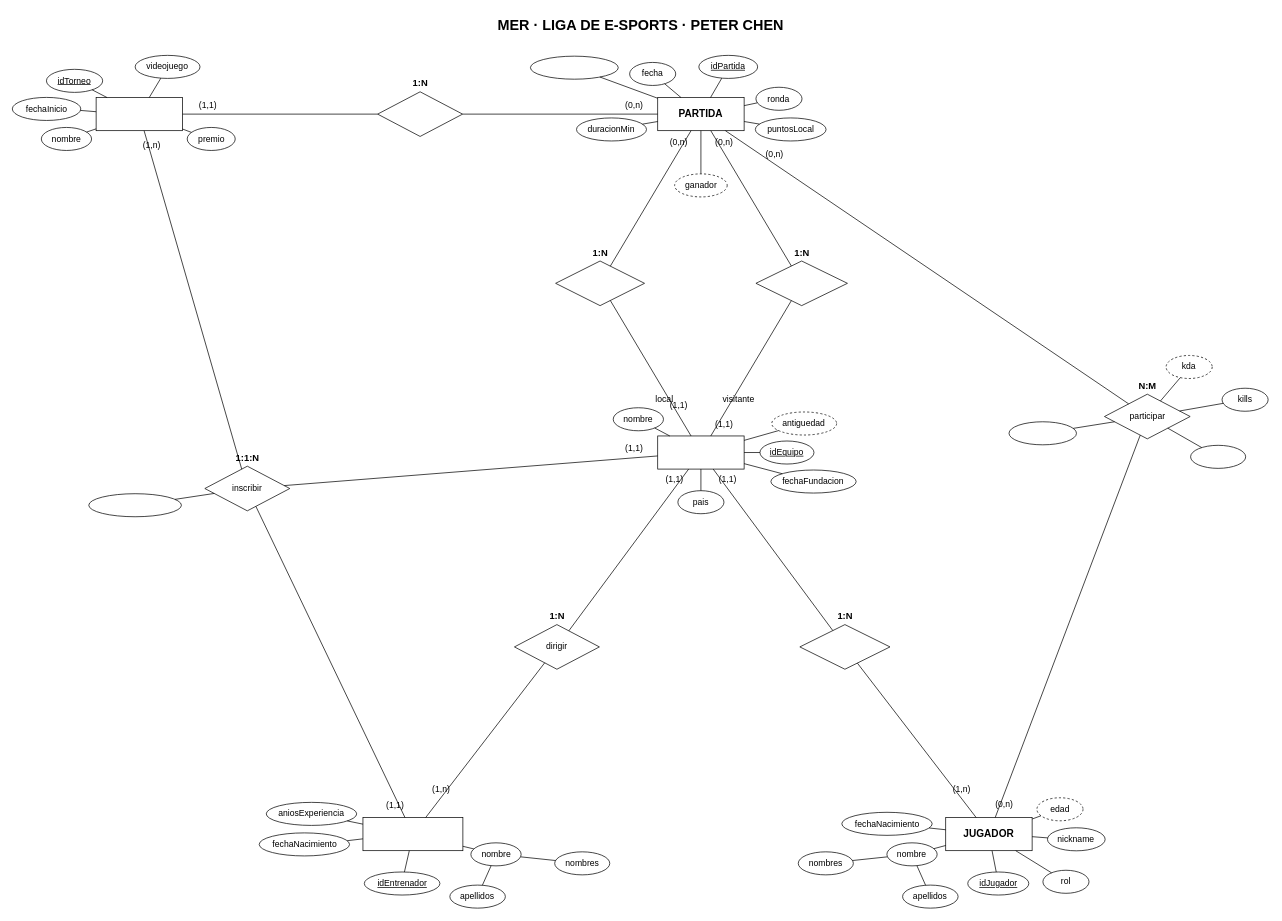
Some shapes in this 1282 by 921 pixel diagram are drawn without their labels. The box of each missing label's shape, as (x1, y1, x2, y2) in pixels:
asistencias: (1008, 421, 1076, 445)
ENTRENADOR: (362, 817, 463, 851)
EQUIPO: (657, 435, 744, 469)
fechaInscripcion: (88, 493, 181, 517)
jugarLocal: (555, 260, 645, 306)
jugarVisita: (755, 260, 847, 306)
muertes: (1190, 445, 1246, 468)
organizar: (377, 91, 463, 136)
pertenecer: (799, 624, 890, 669)
puntosVisitante: (530, 55, 618, 79)
TORNEO: (95, 97, 183, 131)
